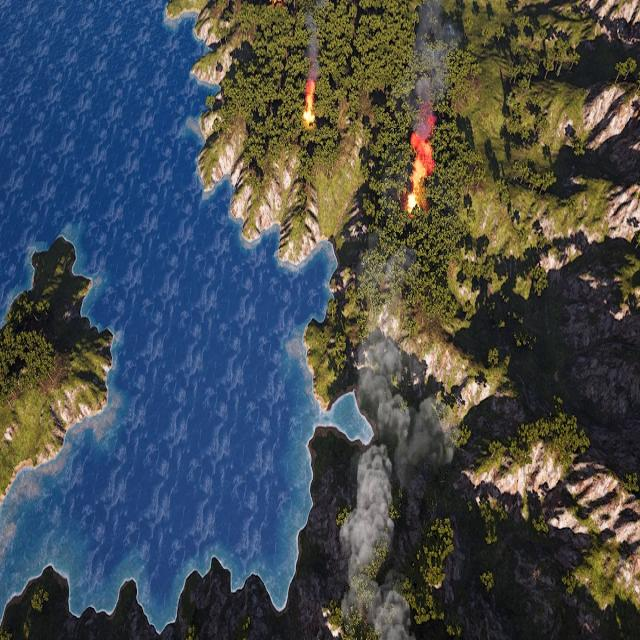fire: (409, 132, 434, 198), (303, 84, 317, 125)
smoke: (340, 301, 461, 640), (405, 3, 467, 211), (302, 1, 328, 87)
